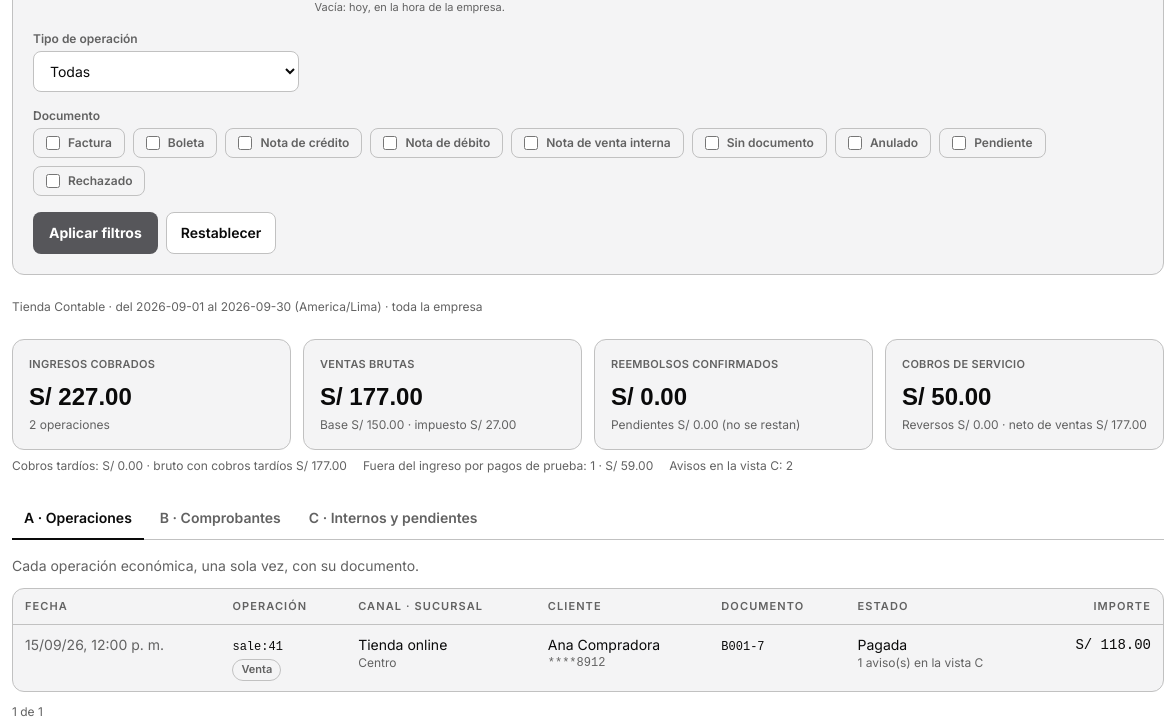
Test case: tabs › warns that BETA documents have no tax validity
The image size is (1164, 720).
(page scrolled)
Expected: the link "sale:41" is shown, [232,640,283,654]
Click the tab "B · Comprobantes".
click(220, 519)  # box [148,498,293,540]
(page scrolled)
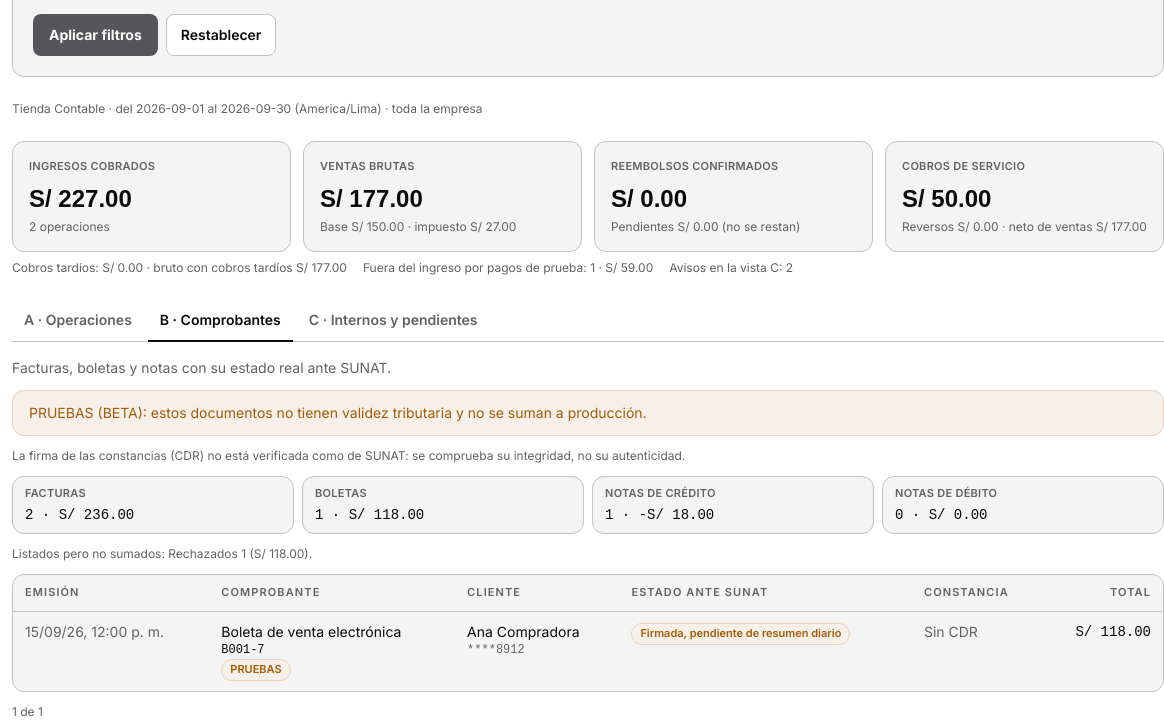
Expected: the text "no tienen validez tributaria" is shown, [29,404,647,421]
Expected: the text "PRUEBAS" is shown, [221,659,291,681]
